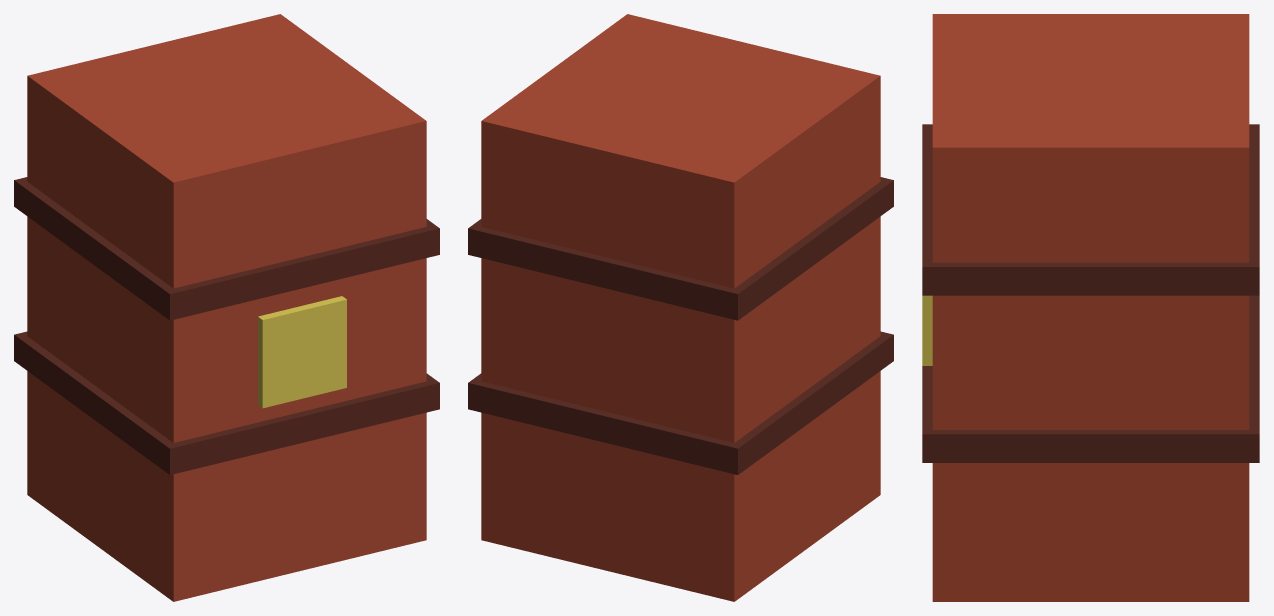
Rendered from drum.glb.
3 renders of one model, left to right at view 1: azimuth 30°, elevation 25°; view 2: azimuth 150°, elevation 25°; view 3: azimuth 270°, elevation 25°, orthographic. The views are drawn at different scales.
Visible parts, largest first — view 1: drum; view 2: drum; view 3: drum.
Boxes of the visible parts, box(x1,y1,x2,y2) form: drum: box(14, 14, 439, 601); drum: box(468, 14, 893, 601); drum: box(922, 14, 1259, 601).
Size of the model in its own units: 0.64 by 0.95 by 0.64.
Materials: 1 (1 with a texture image).
